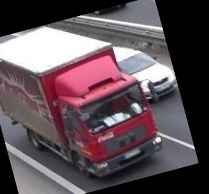car: (115, 44, 180, 109)
